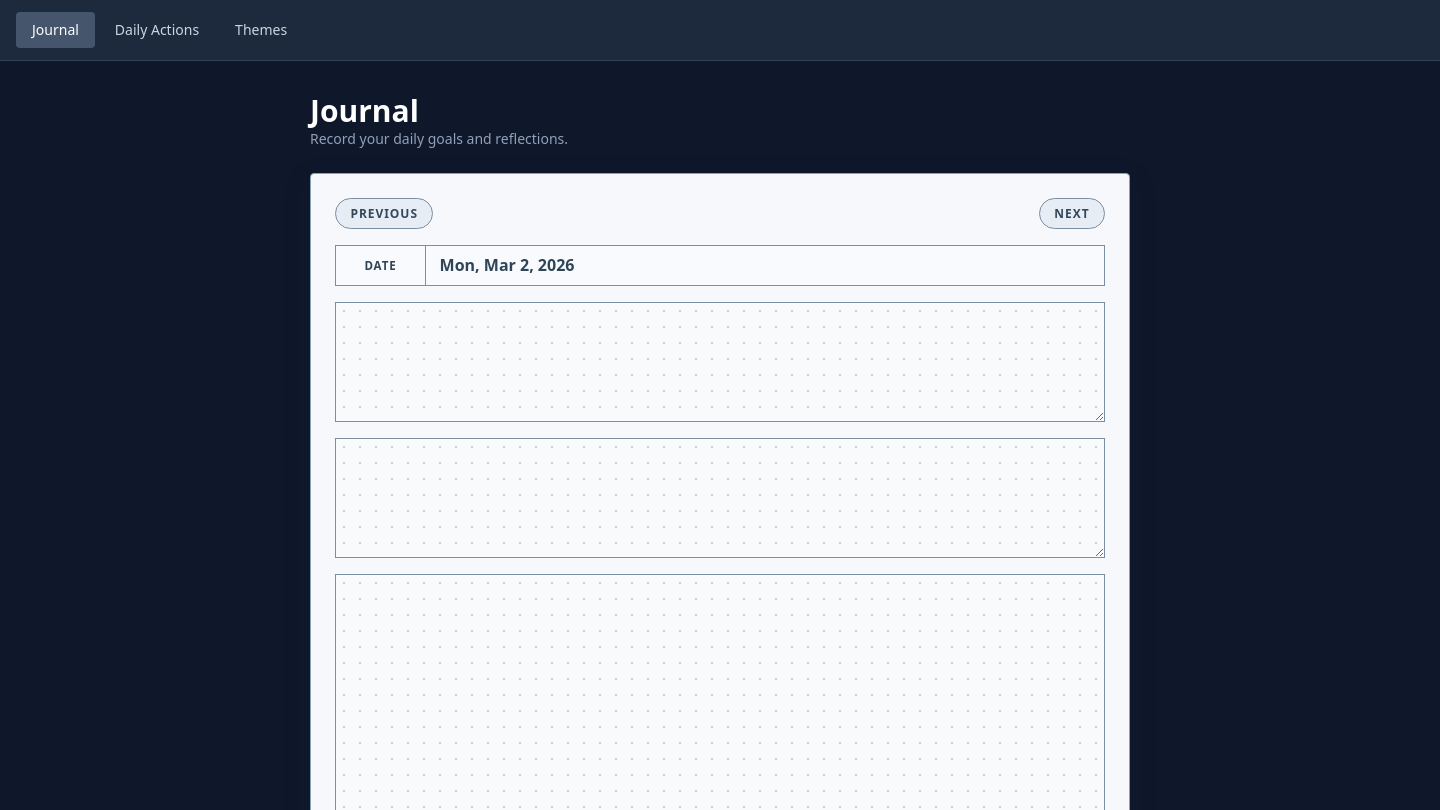
Test case: App › switches to Daily Actions view when Daily Actions tab is clicked
This screenshot has width=1440, height=810.
Click the tab with aria-label "Switch to Daily Actions".
click(157, 30)  # box [99,12,215,48]
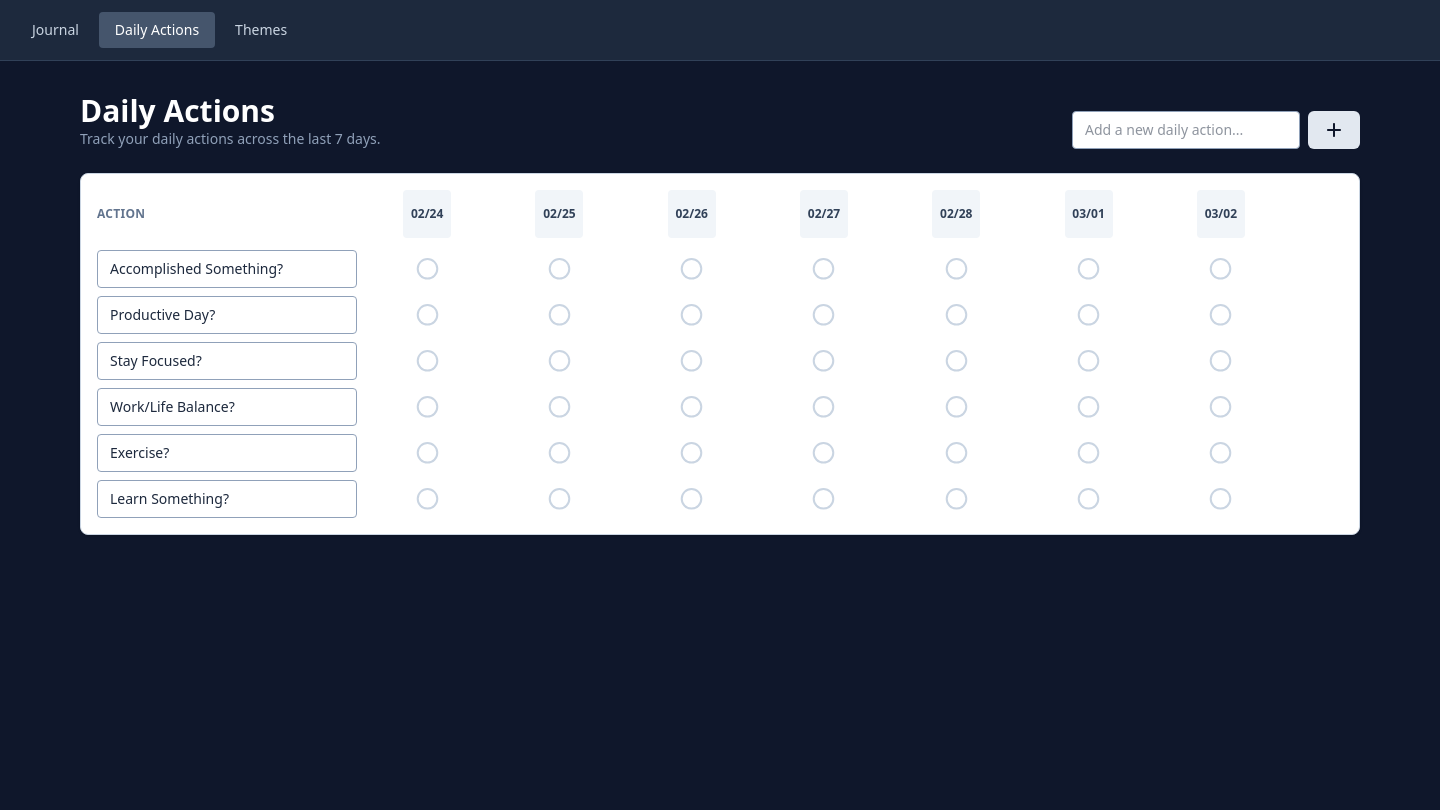
Result: the heading "Daily Actions" is shown at [80,90,275,131]
Result: the field with placeholder "Add a new daily action..." is shown at [1072,111,1300,149]
